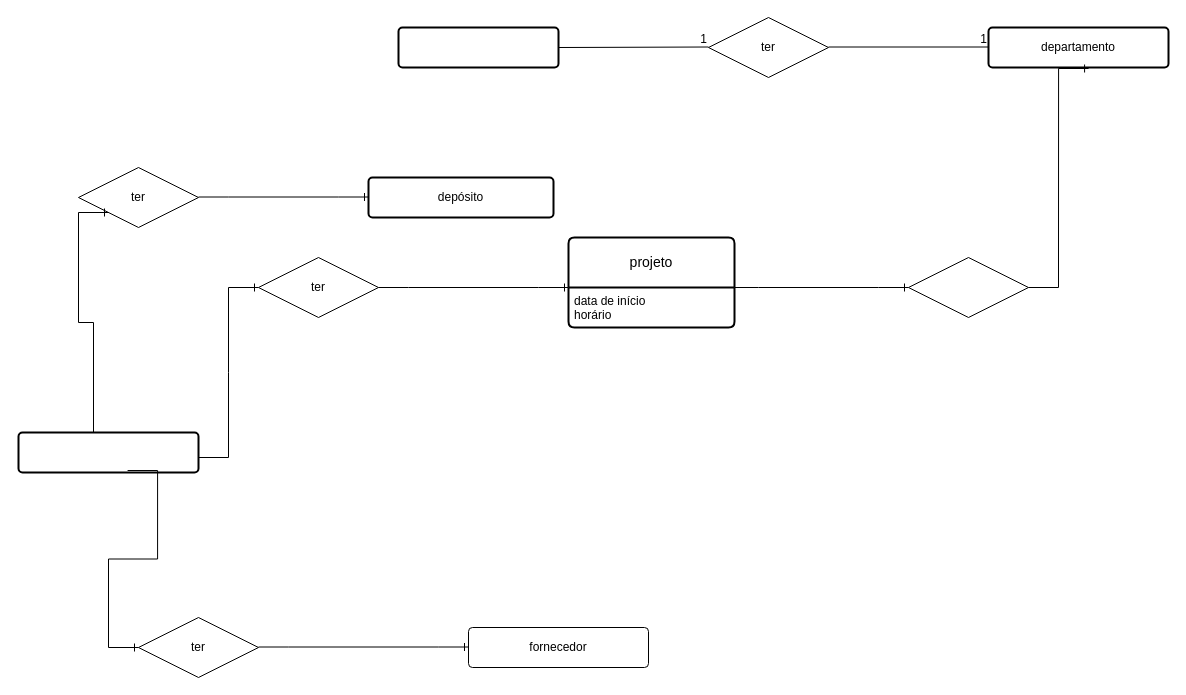
Image size: 1186x695. Some labels were removed from this diagram. The centre of each missing label's shape, as x and y in pixels:
funcionário: the point at 478,47
pertencer: the point at 968,287
peças: the point at 108,452
